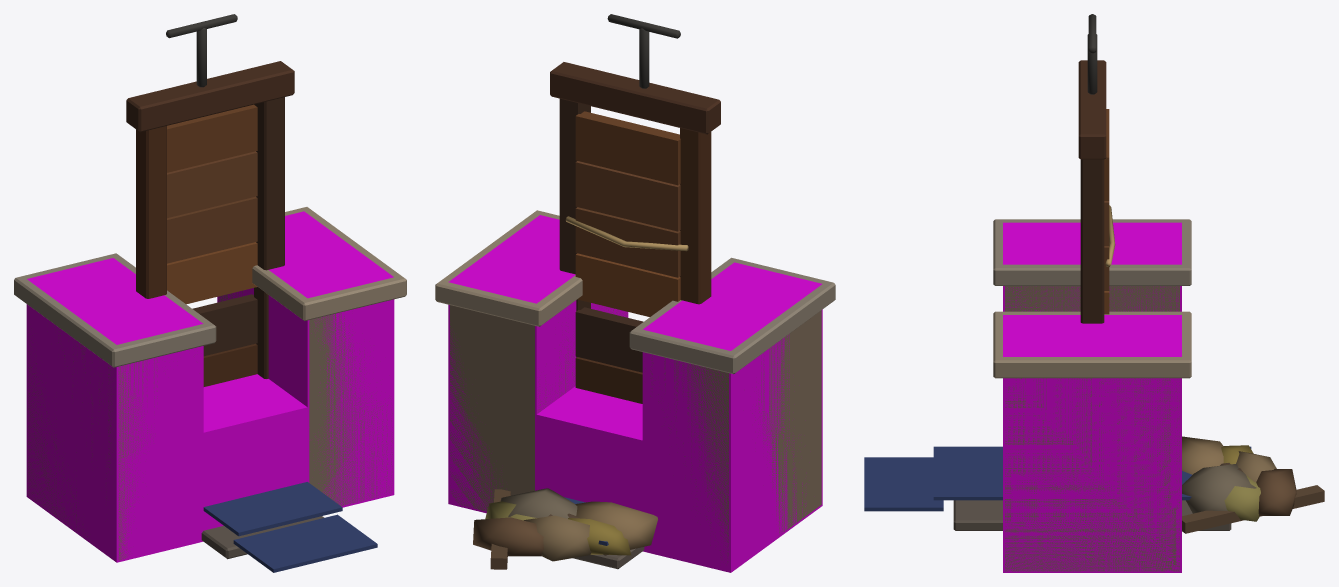
The model's file is ENV_Sluice_Gate_A.glb.
3 views of the same model, side by side, from view 1: azimuth 30°, elevation 25°; view 2: azimuth 150°, elevation 25°; view 3: azimuth 270°, elevation 25° (orthographic). The views are drawn at different scales.
Parts seen in each view (by area): view 1: COL_Cheek_-1, ENV_Sluice_Gate_A_Mesh, COL_Cheek_1, STATE_open, COL_Gate, WATER_STATE_open, STATE_blocked; view 2: ENV_Sluice_Gate_A_Mesh, COL_Cheek_-1, STATE_open, STATE_blocked, COL_Cheek_1, COL_Gate; view 3: COL_Cheek_1, ENV_Sluice_Gate_A_Mesh, STATE_blocked, WATER_STATE_open, COL_Cheek_-1, STATE_open.
Boxes of the visible parts, x1,y1,x2,y2 form: COL_Cheek_-1: [26, 258, 203, 562]; ENV_Sluice_Gate_A_Mesh: [14, 14, 406, 560]; COL_Cheek_1: [217, 211, 394, 507]; STATE_open: [167, 104, 257, 304]; COL_Gate: [203, 374, 307, 530]; WATER_STATE_open: [203, 482, 377, 572]; STATE_blocked: [192, 294, 257, 386]; ENV_Sluice_Gate_A_Mesh: [435, 14, 835, 569]; COL_Cheek_-1: [642, 262, 822, 572]; STATE_open: [565, 111, 688, 316]; STATE_blocked: [473, 307, 657, 569]; COL_Cheek_1: [448, 215, 628, 513]; COL_Gate: [536, 386, 642, 511]; COL_Cheek_1: [1003, 315, 1181, 572]; ENV_Sluice_Gate_A_Mesh: [953, 14, 1231, 571]; STATE_blocked: [1182, 436, 1324, 533]; WATER_STATE_open: [864, 446, 1251, 511]; COL_Cheek_-1: [1003, 222, 1181, 311]; STATE_open: [1104, 109, 1115, 314].
Size of the model in its own units: 1.7 by 2.62 by 2.32.
